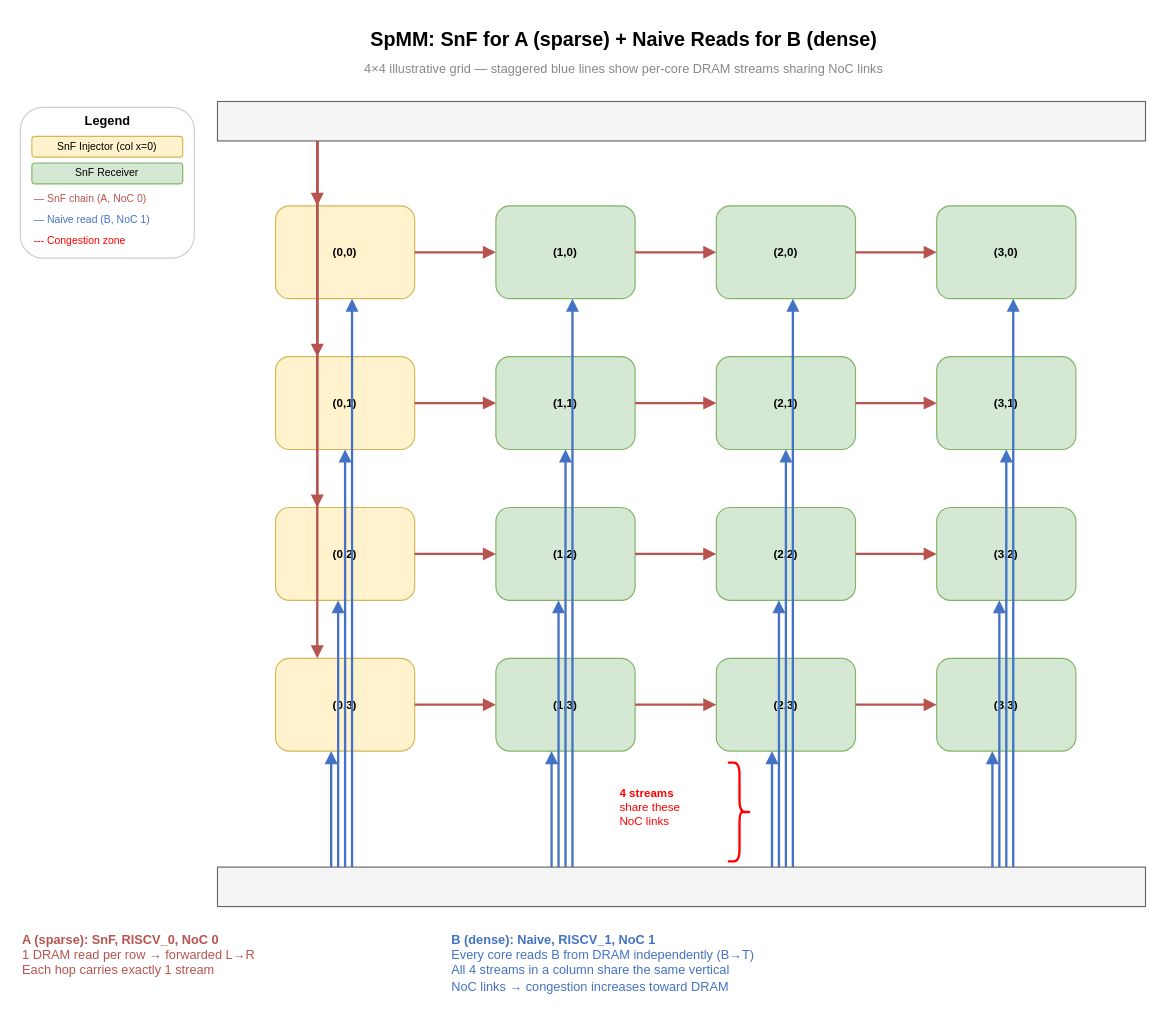
Some shapes in this 1166 by 1020 pixel diagram are drawn without their labels. The centre of each missing label's shape, as x and y in pixels:
"DRAM (A: sparse)" goes at point 681,120.
"DRAM (B: dense)" goes at point 681,886.
